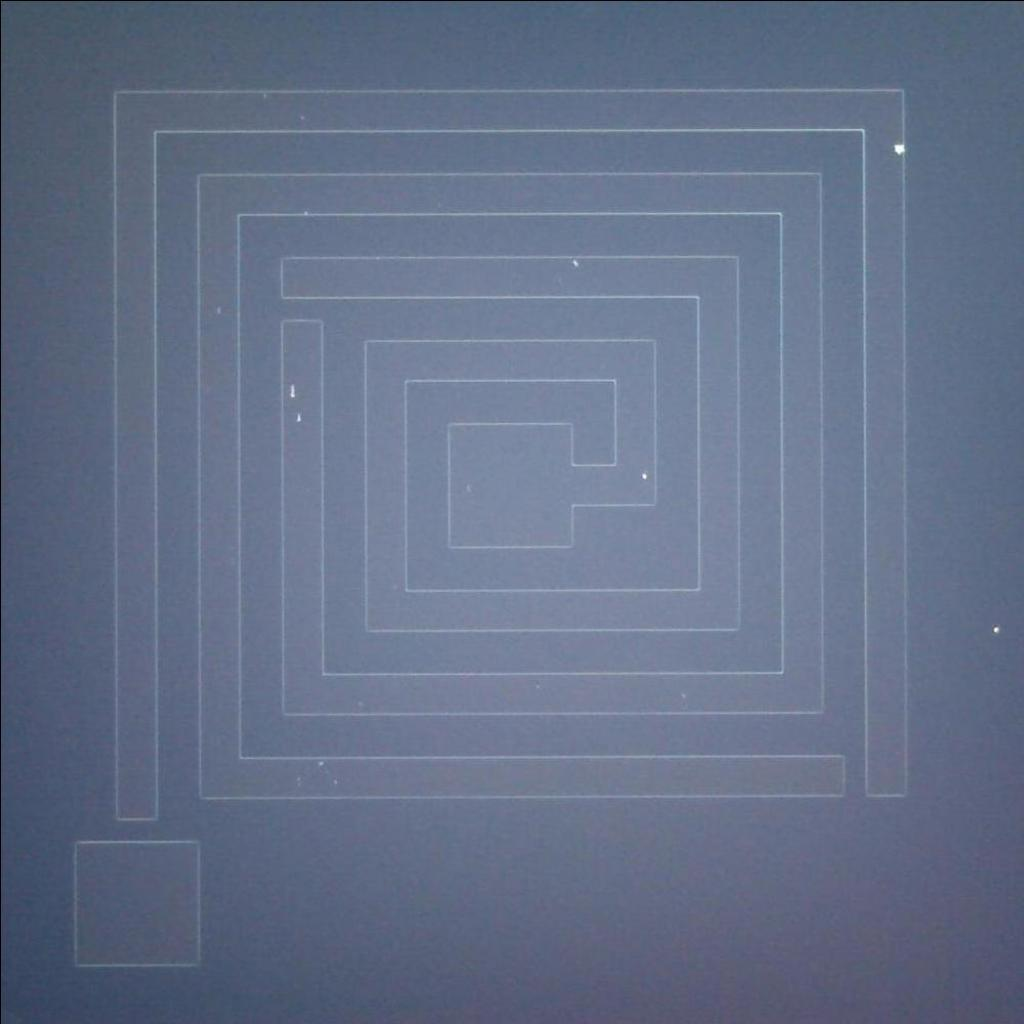dot: (980, 613, 1011, 645), (628, 463, 653, 493)
short circuit: (814, 745, 887, 807), (265, 278, 337, 335), (104, 796, 170, 857)
spot: (884, 136, 910, 161)
